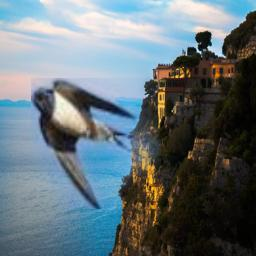Swallow: (31, 78, 161, 209)
